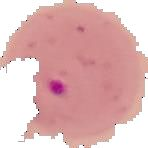parasitized: (49, 47, 108, 102)
